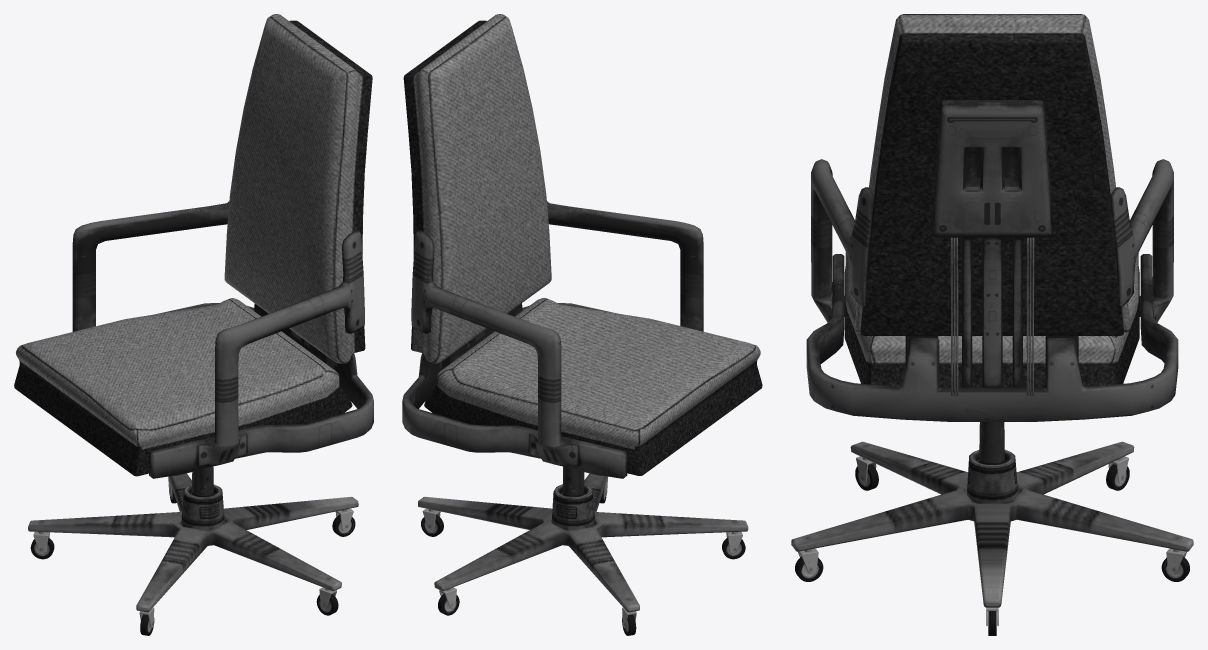
File: office_chair.glb
3 views of the same model, side by side, from view 1: azimuth 30°, elevation 25°; view 2: azimuth 150°, elevation 25°; view 3: azimuth 270°, elevation 25° (orthographic). The views are drawn at different scales.
Parts seen in each view (by area): view 1: Cube__0; view 2: Cube__0; view 3: Cube__0.
Boxes of the visible parts, x1,y1,x2,y2 form: Cube__0: (14, 14, 373, 635); Cube__0: (402, 14, 762, 635); Cube__0: (791, 14, 1193, 635).
Bounding box in the file's own units: 0.7904 × 1.34 × 0.8144.
Materials: 1 (1 with a texture image).
